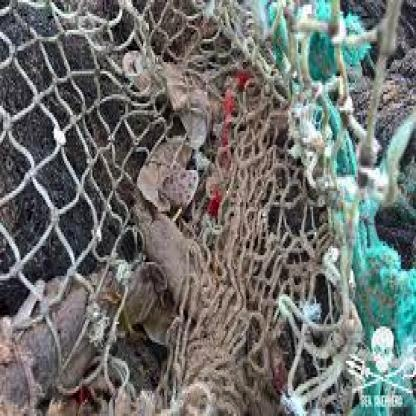net: (1, 3, 354, 412)
